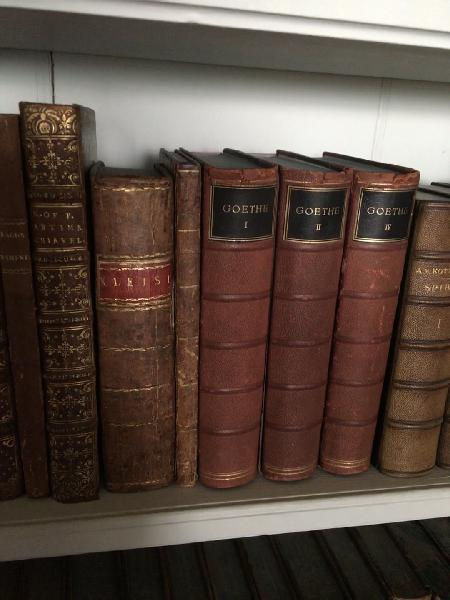Aa6-10: (177, 161, 202, 492)
Aa6-11_13: (201, 157, 433, 486)
Aa6-7: (1, 111, 50, 503)
Aa6-8: (18, 98, 103, 506)
Aa6-9: (83, 167, 177, 497)
